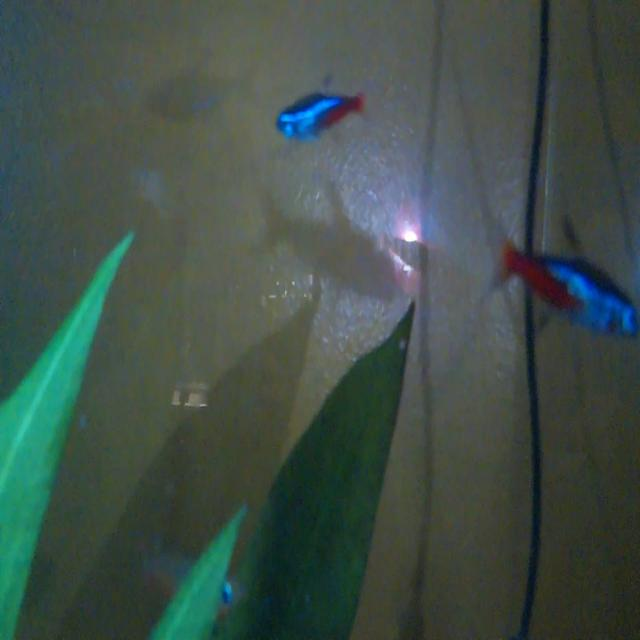fish: (483, 204, 640, 352), (266, 64, 373, 152)
